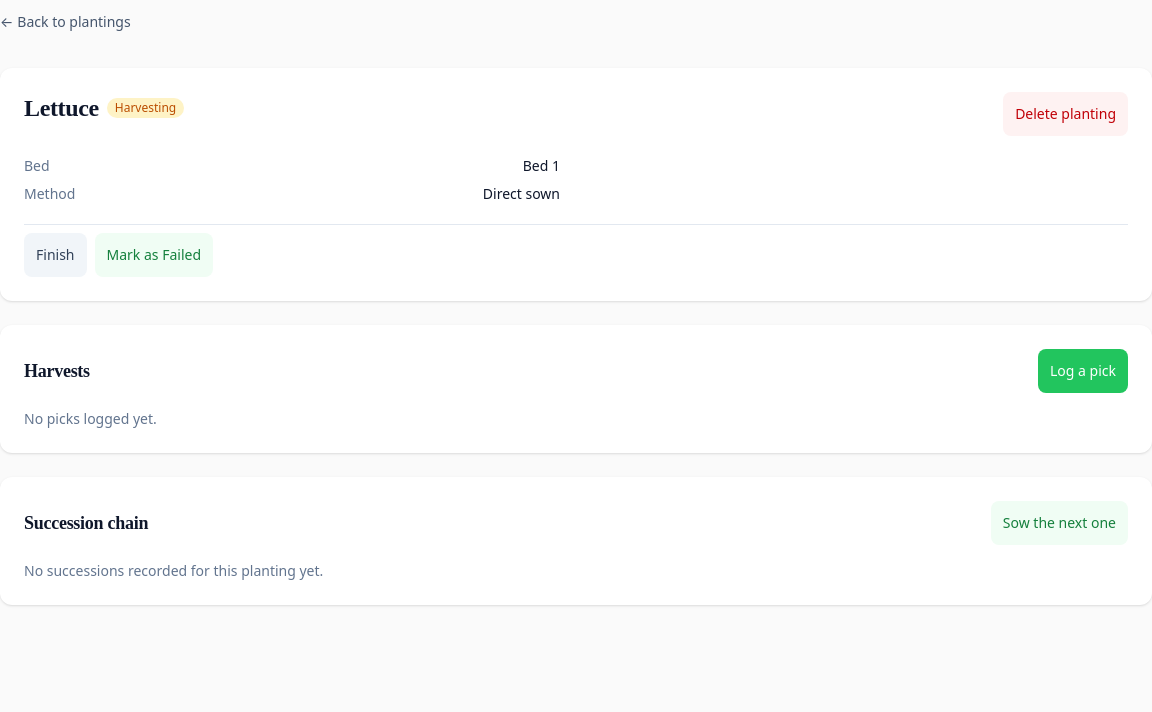
PlantingDetail › logging a pick persists it and shows it in the list
This screenshot has width=1152, height=712.
Expected: the heading "Lettuce" is shown, [24, 92, 99, 124]
Click the button "Log a pick" at (1083, 371), box [1038, 349, 1128, 393]
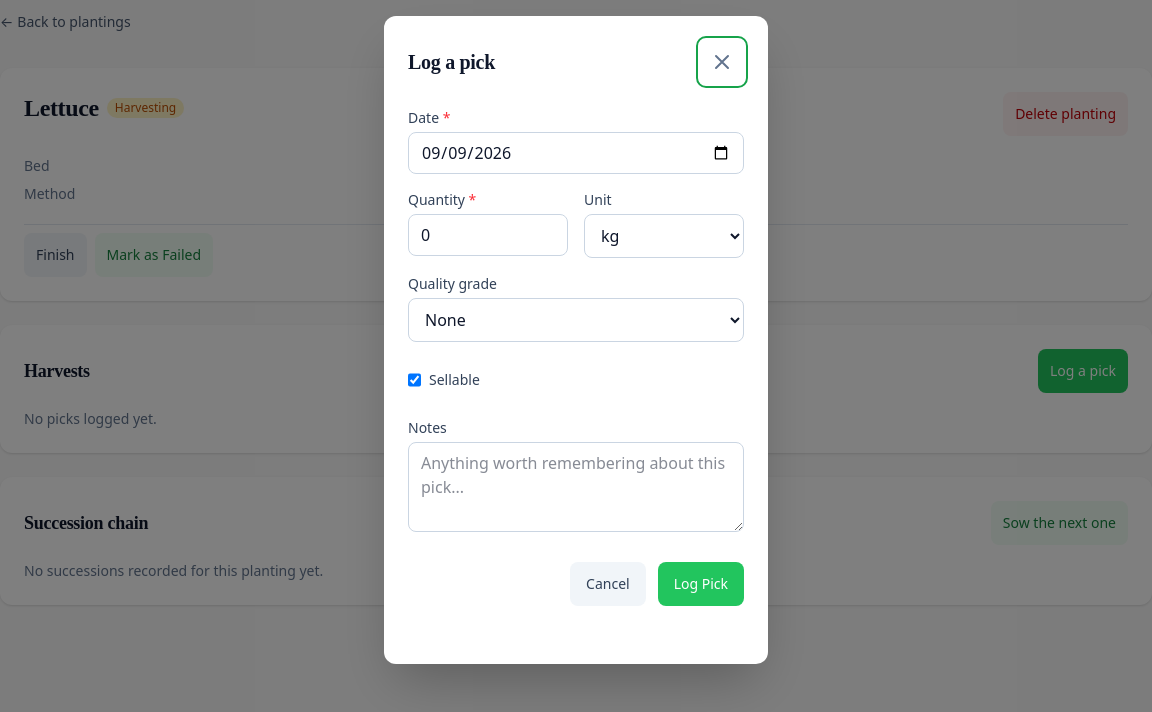
Replace the text in the number field labelled "Quantity *" with "2.5" at (488, 235), box [408, 214, 568, 256]
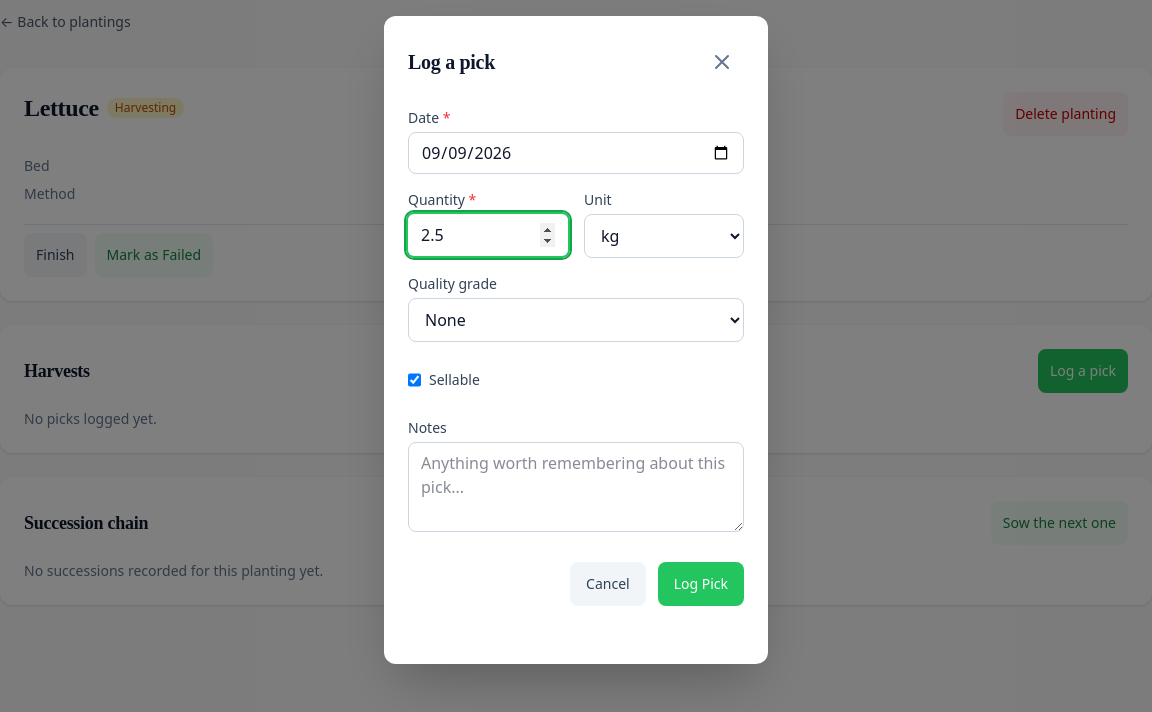
Click the button "Log Pick" at (701, 584), box [658, 562, 744, 606]
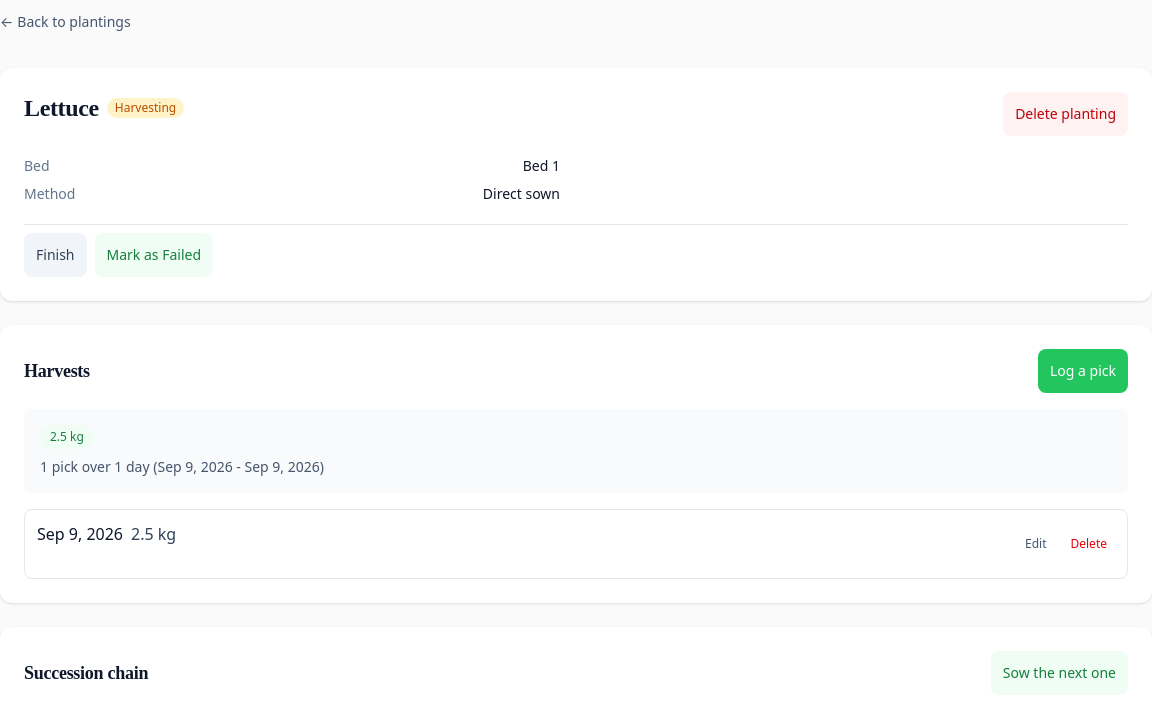
Expected: the 2nd text "2.5 kg" is shown, [131, 522, 176, 546]
